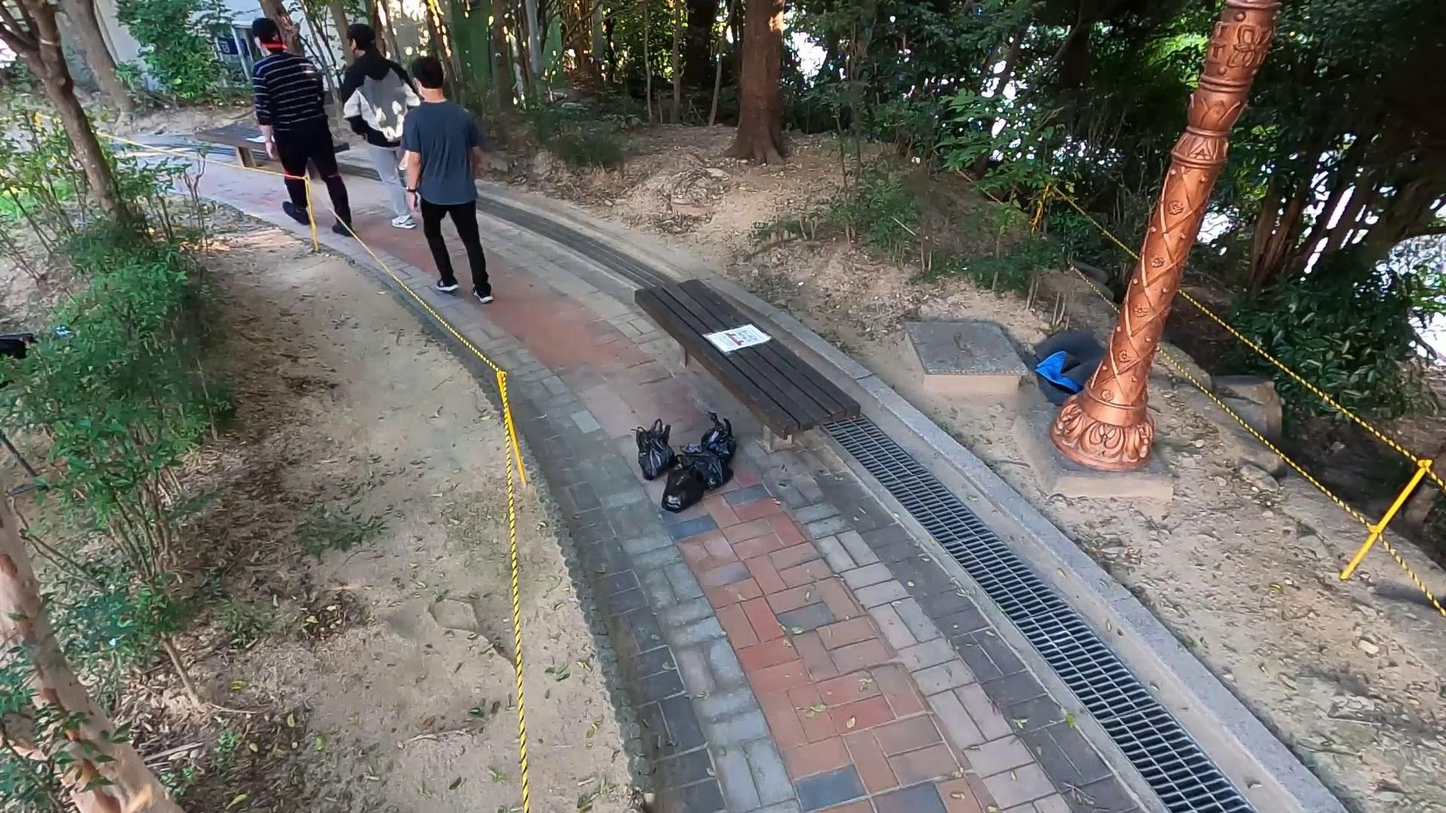person: (394, 49, 498, 307), (238, 11, 355, 239), (335, 15, 442, 236)
trash: (677, 444, 733, 492), (661, 460, 706, 515), (697, 409, 738, 466), (636, 436, 675, 480), (633, 419, 673, 449)
